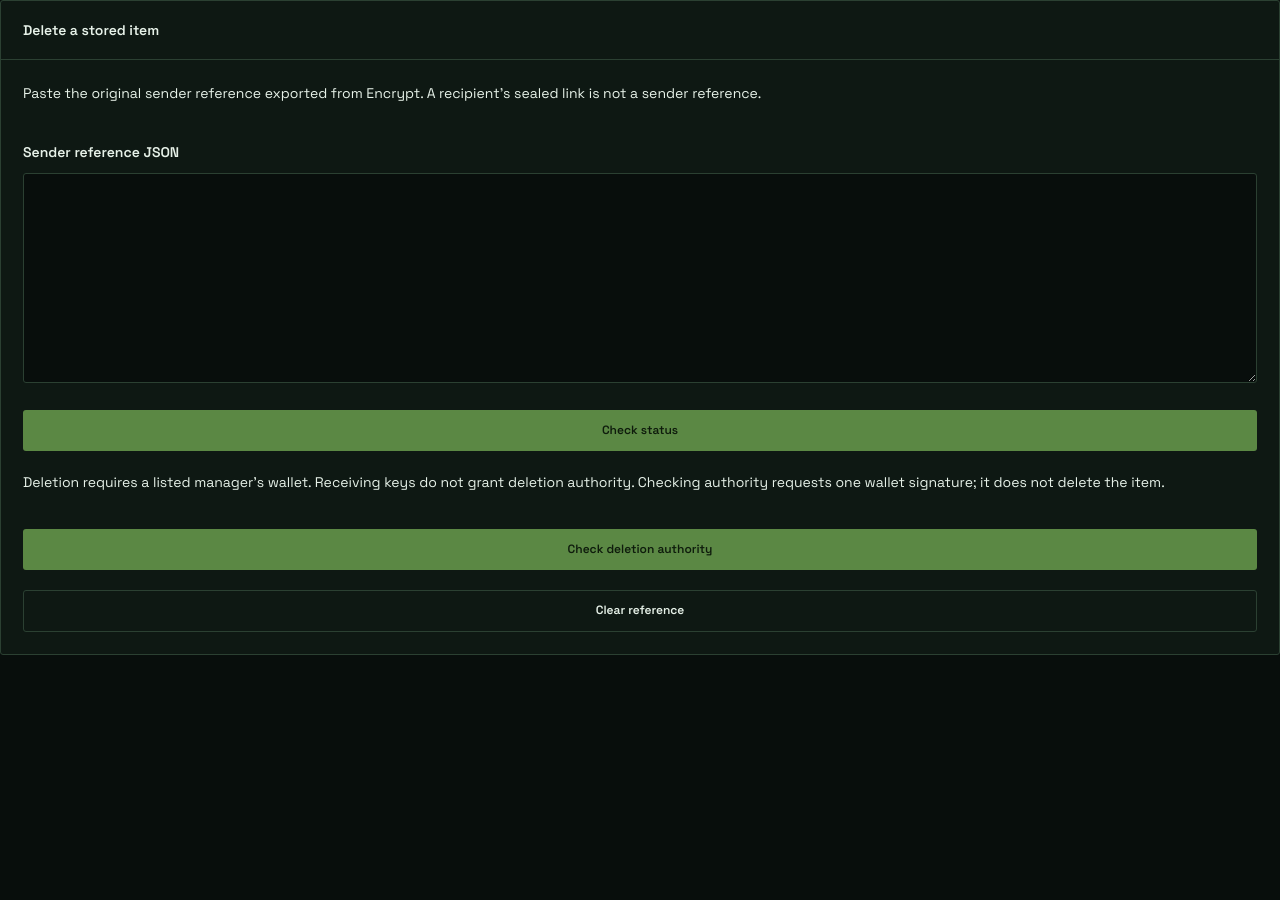
Test case: requires confirmation, blocks duplicate clicks, and shows logical deletion with pending physical removal
The image size is (1280, 900).
Type "reference" into the text box labelled "Sender reference JSON". click: (640, 278)
box: [23, 173, 1257, 383]
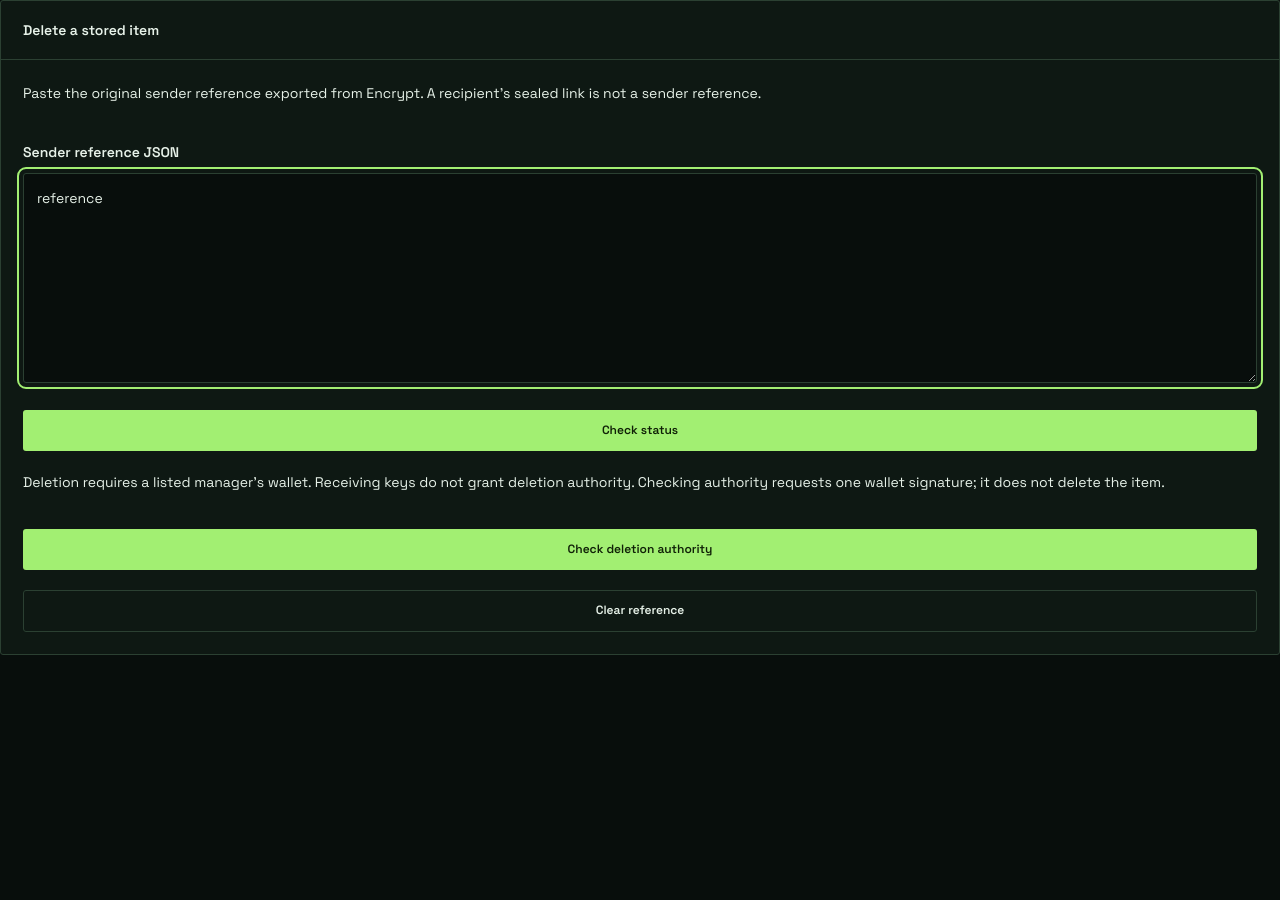
Click the button "Check deletion authority". click: (640, 550)
box: [23, 529, 1257, 570]
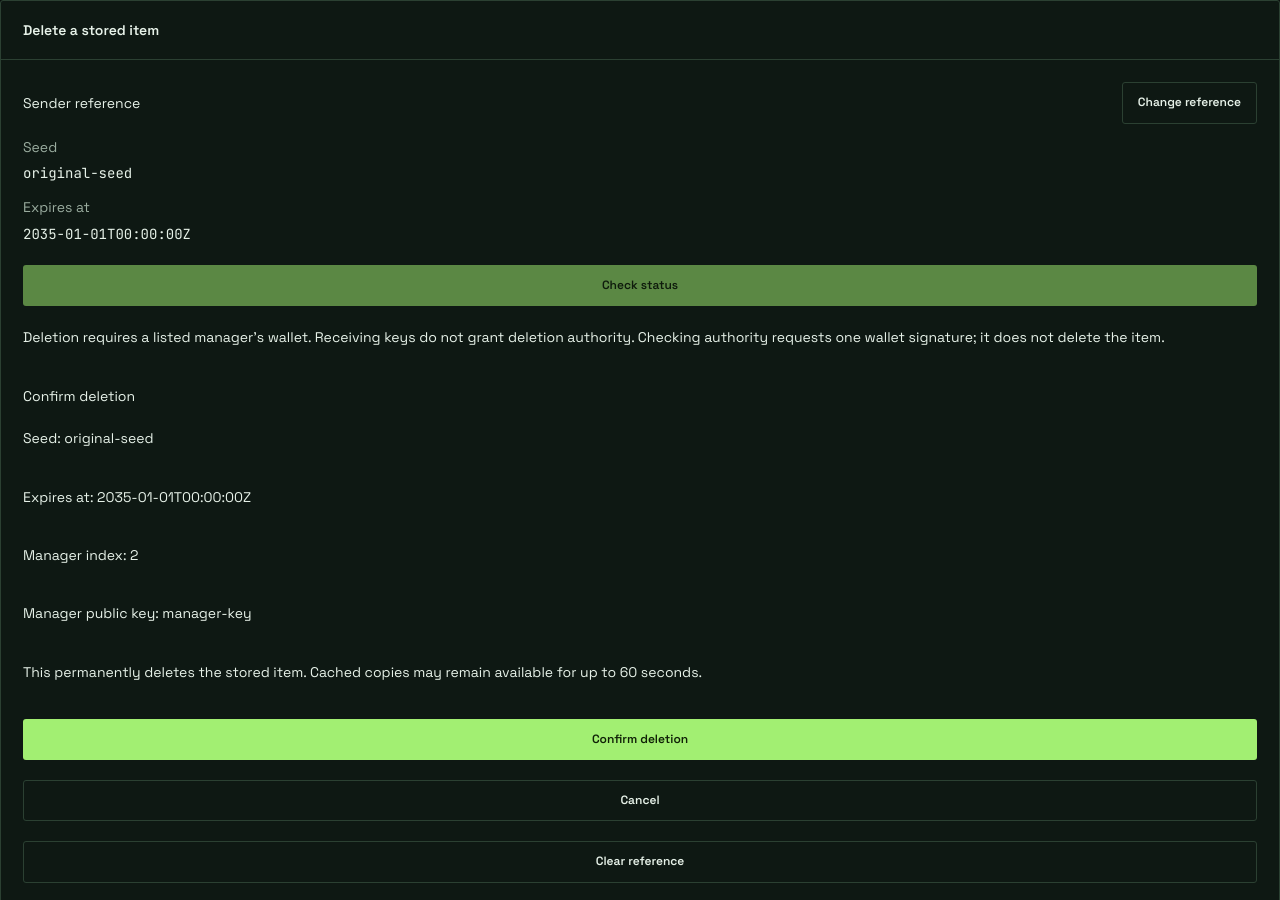
Double-click the button "Confirm deletion" at (640, 740), box [23, 719, 1257, 760]
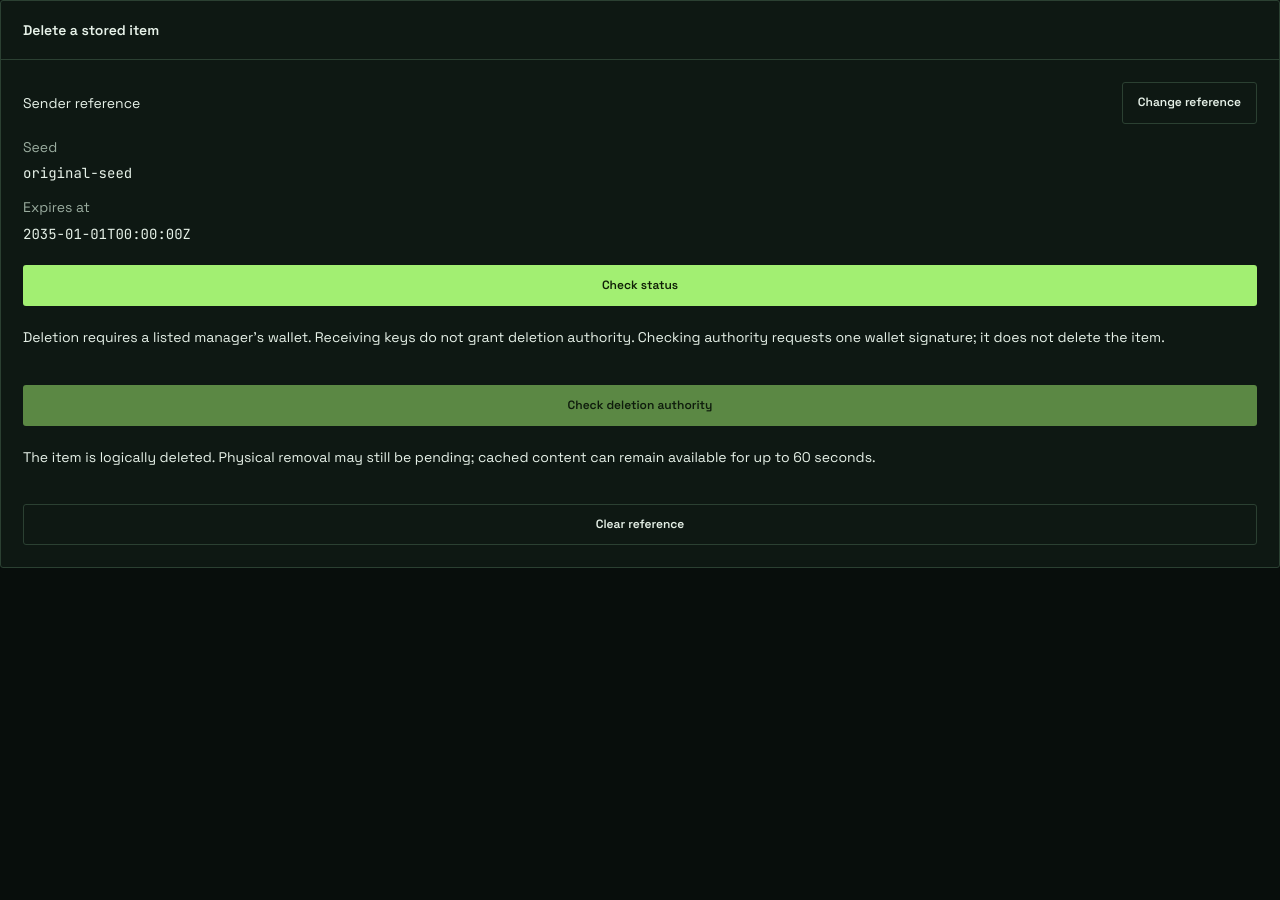
Result: the text "The item is logically deleted" shows "Physical removal may still be pending" at [23, 448, 876, 466]
